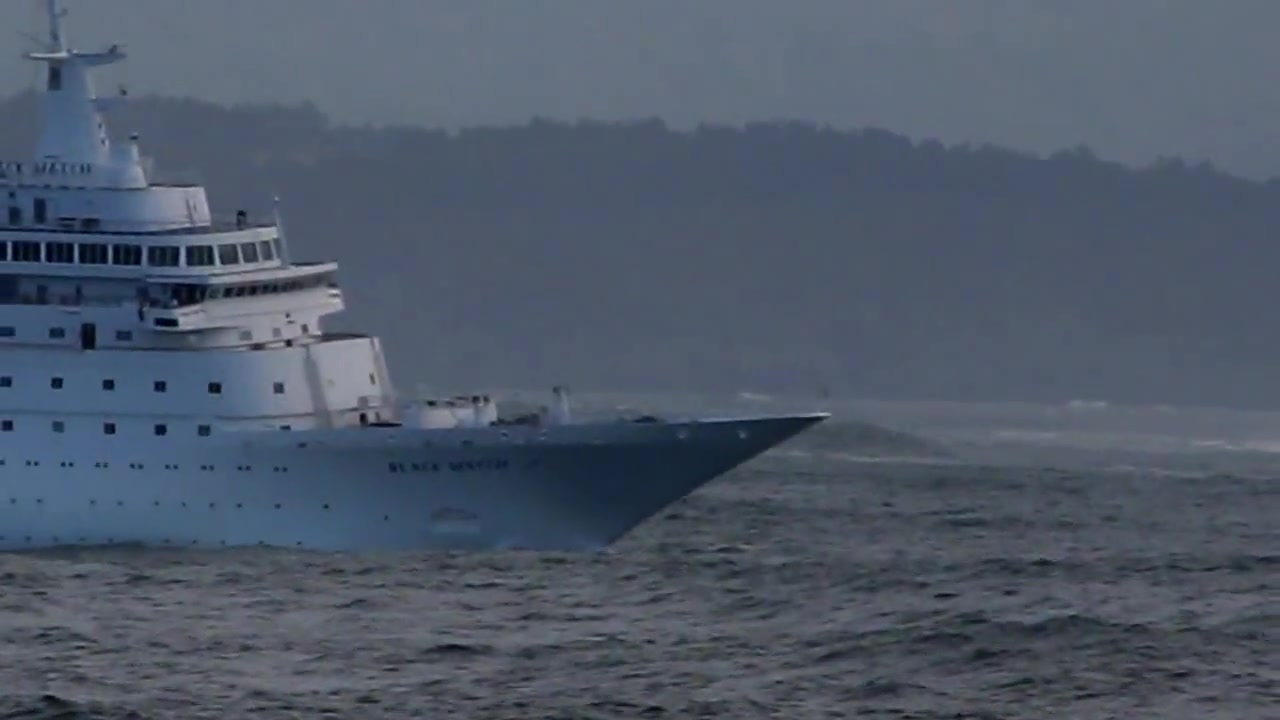boat: (1, 6, 832, 555)
